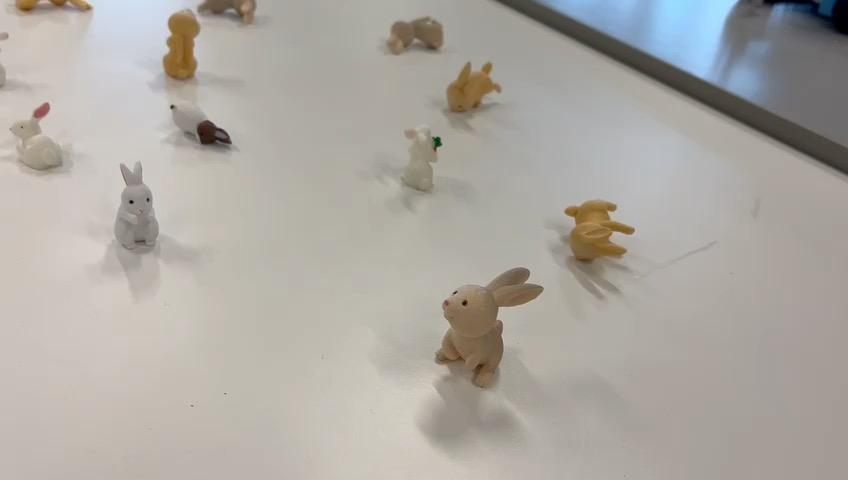pet: (432, 260, 546, 392), (561, 197, 644, 266), (5, 99, 70, 172), (110, 160, 162, 250), (442, 57, 507, 116), (165, 96, 238, 148), (398, 121, 444, 196), (161, 7, 202, 82), (384, 15, 446, 58)
